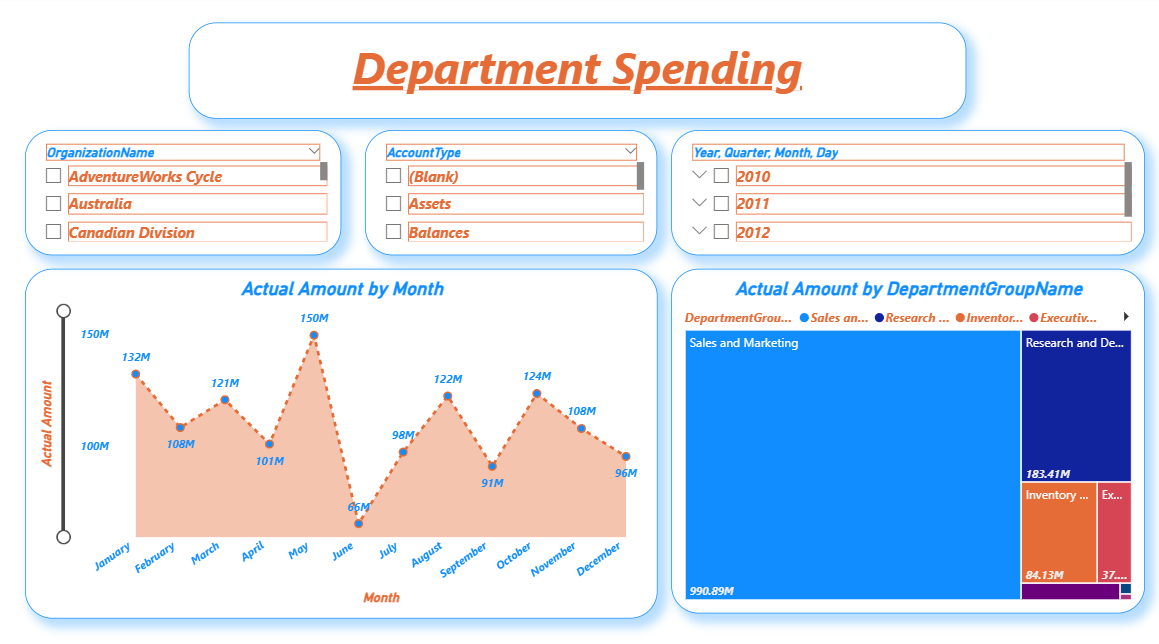

Layout of this report page (visuals, bound fields, positions):
{"tool":"powerbi","page":{"name":"Department Spending","canvas":[1280,720],"ordinal":1},"visuals":[{"type":"textbox","box":[212.7,30.2,853.5,105.7],"z":0},{"type":"treemap","fields":{"Values":["FactFinance.Actual Amount"],"Group":["DimDepartmentGroup.DepartmentGroupName"]},"box":[742.4,300.5,520.1,378.7],"z":1},{"type":"lineChart","fields":{"Category":["FactFinance.Date.Variation.Date Hierarchy.Month"],"Y":["FactFinance.Actual Amount"]},"box":[32.9,300.5,694.3,384.2],"z":2},{"type":"slicer","fields":{"Values":["DimOrganization.OrganizationName"]},"box":[32.9,148.2,347.2,137.2],"z":3},{"type":"slicer","fields":{"Values":["DimAccount.AccountType"]},"box":[406.2,148.2,321.1,137.2],"z":4},{"type":"slicer","fields":{"Values":["FactFinance.Date.Variation.Date Hierarchy.Year","FactFinance.Date.Variation.Date Hierarchy.Quarter","FactFinance.Date.Variation.Date Hierarchy.Month","FactFinance.Date.Variation.Date Hierarchy.Day"]},"box":[742.4,148.2,520.1,137.2],"z":5}]}

Visuals, with their boxes in screenshot pixels (x1, y1, x2, y2), scaled from the page's 1280x720 canvas onto the 1159x644 screenshot:
textbox: crop(193, 27, 965, 122)
treemap - FactFinance.Actual Amount x DimDepartmentGroup.DepartmentGroupName: crop(672, 269, 1143, 608)
lineChart - FactFinance.Date.Variation.Date Hierarchy.Month x FactFinance.Actual Amount: crop(30, 269, 658, 612)
slicer - DimOrganization.OrganizationName: crop(30, 133, 344, 255)
slicer - DimAccount.AccountType: crop(368, 133, 659, 255)
slicer - FactFinance.Date.Variation.Date Hierarchy.Year x FactFinance.Date.Variation.Date Hierarchy.Quarter: crop(672, 133, 1143, 255)
